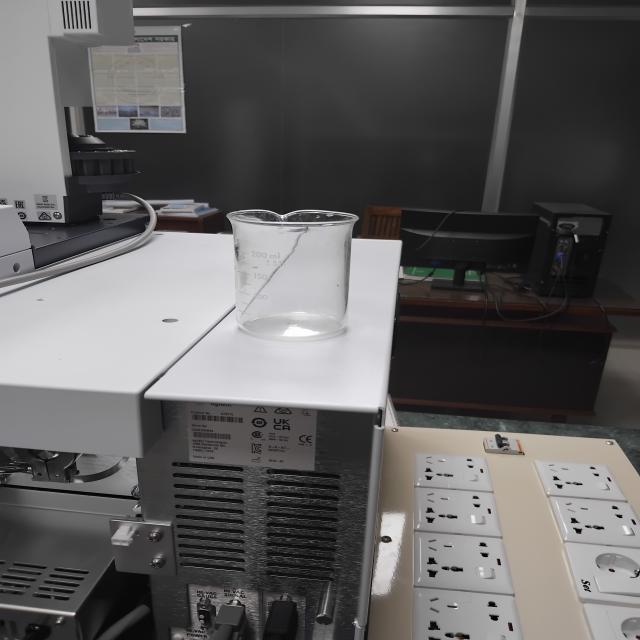Beaker: (192, 160, 384, 358)
